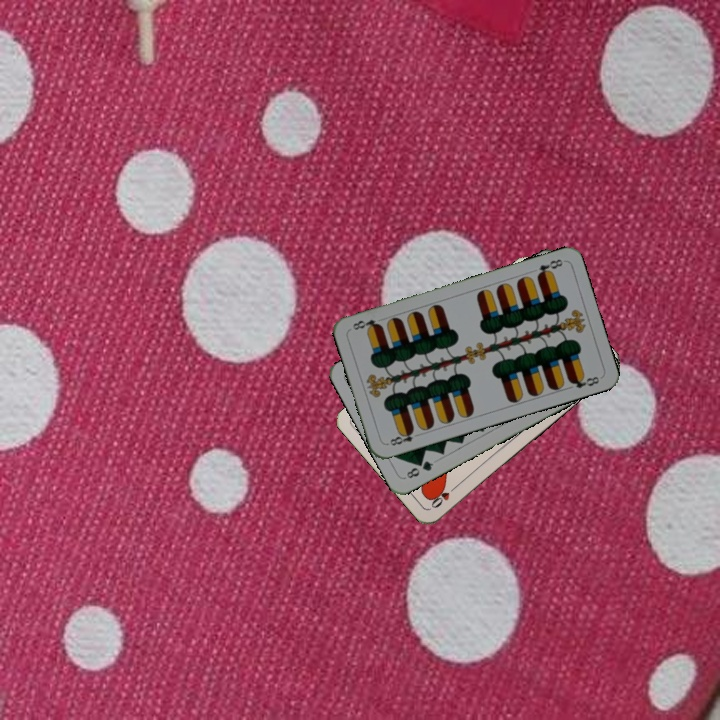E8: (383, 425, 423, 448), (533, 255, 566, 280)
G8: (402, 457, 436, 481)
HO: (427, 481, 461, 511)
